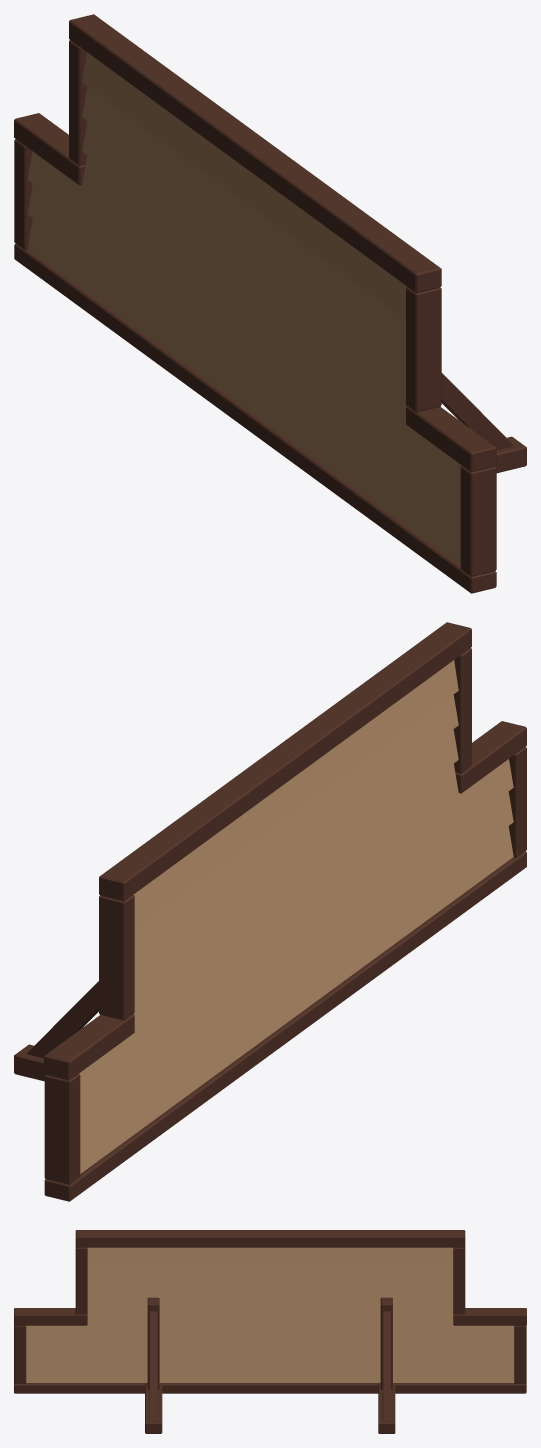
File: sign-c.glb
3 renders of one model, top to bottom at view 1: azimuth 30°, elevation 25°; view 2: azimuth 150°, elevation 25°; view 3: azimuth 270°, elevation 25°, orthographic. The views are drawn at different scales.
Visible parts, largest first — view 1: Sign C (×2); view 2: Sign C (×2); view 3: Sign C (×2).
Boxes of the visible parts, x1,y1,x2,y2 form: Sign C (×2): (14, 14, 526, 593); Sign C (×2): (14, 622, 526, 1201); Sign C (×2): (14, 1230, 526, 1433).
Bounding box in the file's own units: 1.45 × 2.23 × 6.6.
